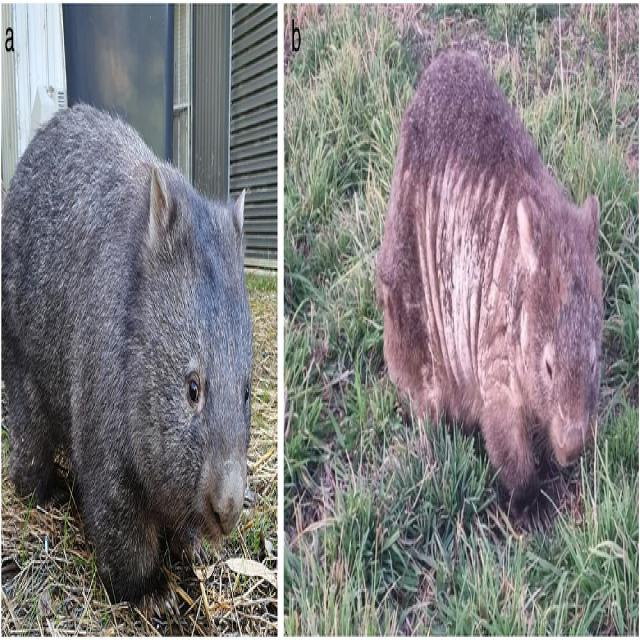Wombat: (0, 96, 260, 575), (380, 39, 608, 508)
